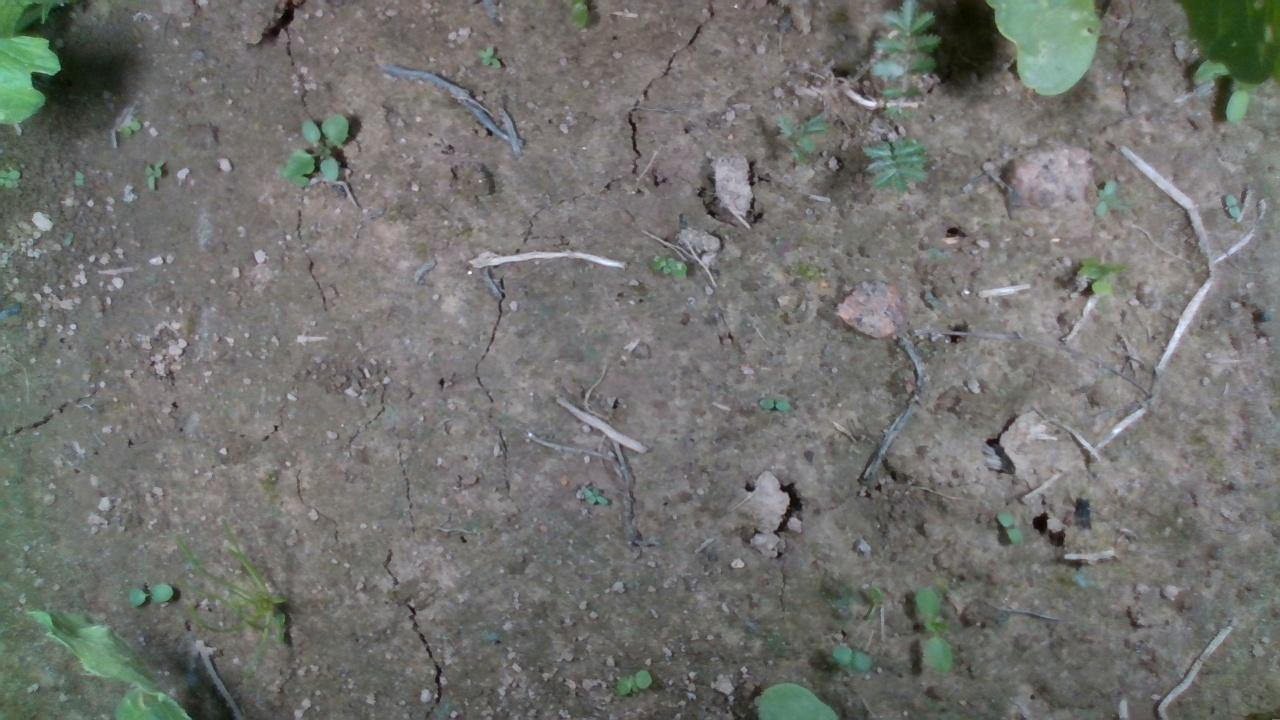weed: (281, 112, 347, 187), (913, 584, 952, 672), (128, 581, 173, 607), (831, 643, 872, 671), (649, 253, 687, 280), (994, 509, 1024, 543), (615, 668, 651, 694), (1092, 179, 1115, 217), (142, 158, 164, 191), (475, 43, 501, 69), (579, 485, 609, 505), (1223, 191, 1240, 219), (119, 119, 140, 137), (73, 167, 83, 187)
